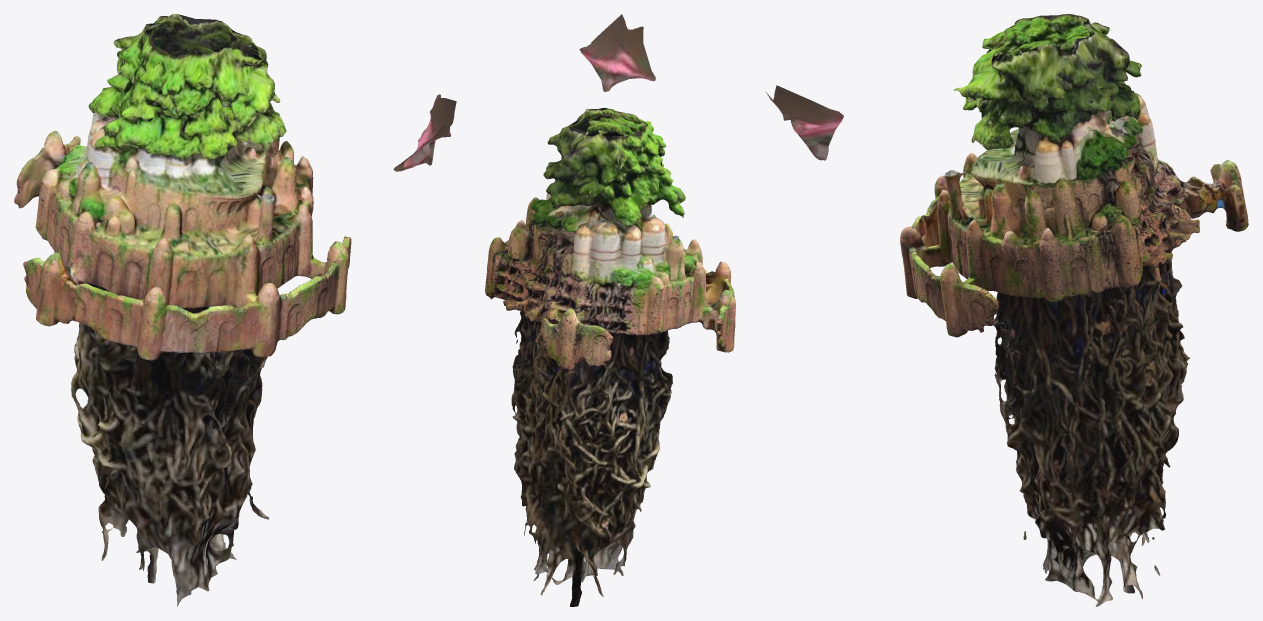
The model's file is laputa-castle.glb.
3 views of the same model, side by side, from view 1: azimuth 30°, elevation 25°; view 2: azimuth 150°, elevation 25°; view 3: azimuth 270°, elevation 25° (orthographic). The views are drawn at different scales.
Parts seen in each view (by area): view 1: Object_2; view 2: Object_2; view 3: Object_2.
Part boxes in pixels (bbox=[...]): Object_2: bbox=[14, 14, 456, 606]; Object_2: bbox=[485, 14, 735, 606]; Object_2: bbox=[765, 14, 1248, 606].
Bounding box in the file's own units: 1.1 × 2.06 × 1.6.
1 material, 1 textured.
